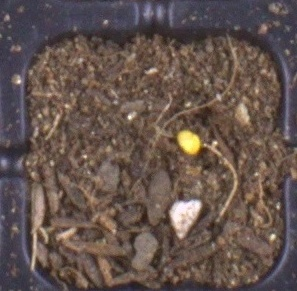chilli seed: (176, 130, 201, 155)
